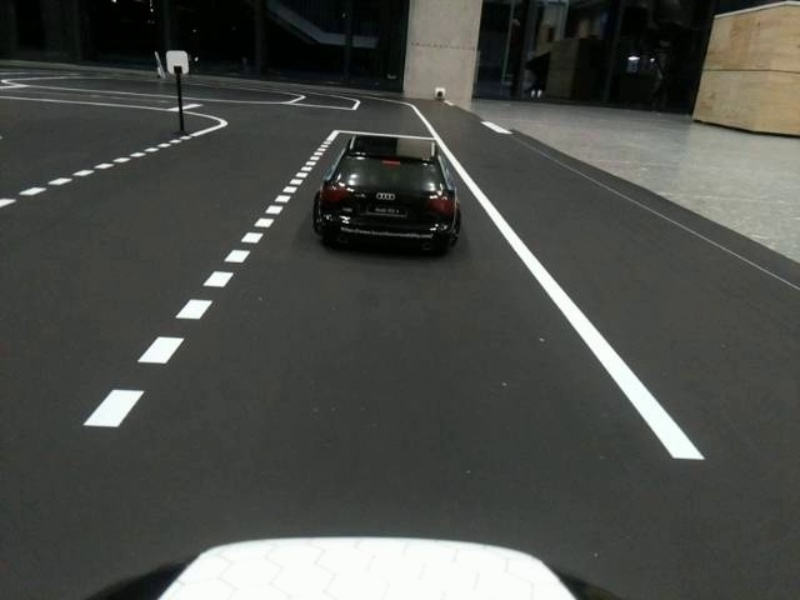car: (311, 129, 482, 273)
